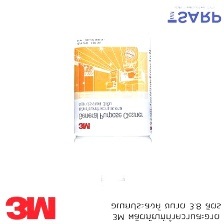cleaning_solution: (69, 13, 155, 197)
